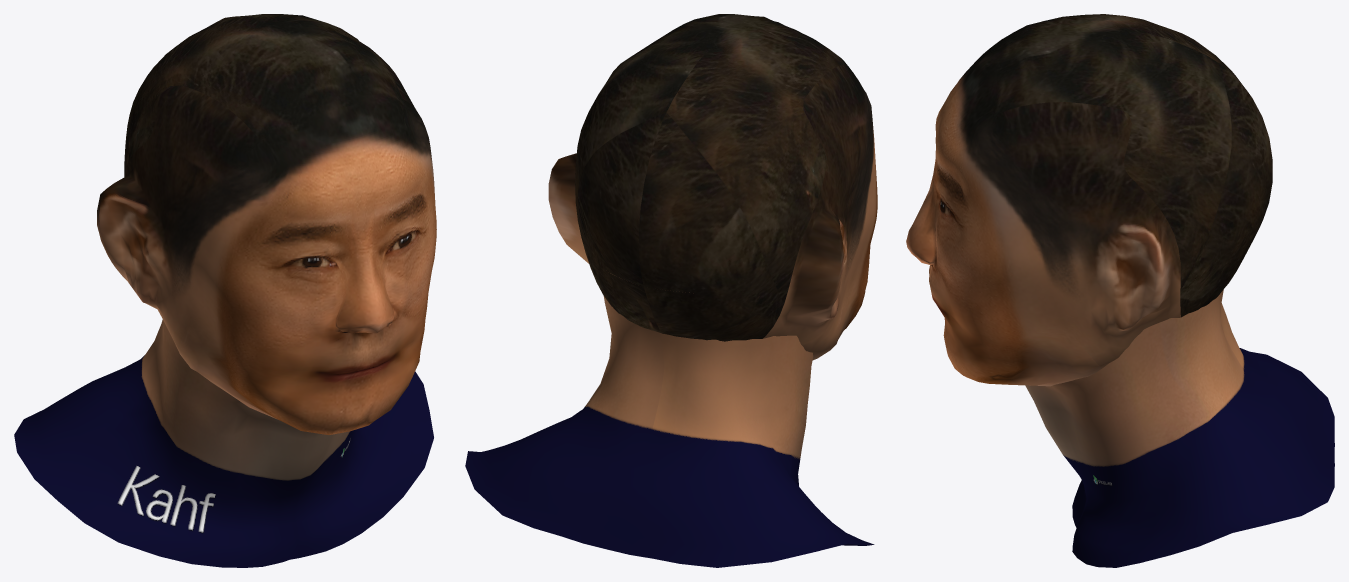
The model's file is 3D_KAHF_HeadNeck_Rectangle3.glb.
The picture shows the model from 3 angles, left to right: view 1: azimuth 30°, elevation 25°; view 2: azimuth 150°, elevation 25°; view 3: azimuth 270°, elevation 25°; orthographic projection. The views are drawn at different scales.
Parts seen in each view (by area): view 1: HEAD - SQUARE SHAPE.003, NECK - SQAURE SHAPE.005; view 2: HEAD - SQUARE SHAPE.003, NECK - SQAURE SHAPE.005; view 3: HEAD - SQUARE SHAPE.003, NECK - SQAURE SHAPE.005.
Boxes of the visible parts, <box> form: HEAD - SQUARE SHAPE.003: <box>97,14,436,434</box>; NECK - SQAURE SHAPE.005: <box>14,319,433,567</box>; HEAD - SQUARE SHAPE.003: <box>548,14,877,360</box>; NECK - SQAURE SHAPE.005: <box>465,273,874,567</box>; HEAD - SQUARE SHAPE.003: <box>906,14,1272,386</box>; NECK - SQAURE SHAPE.005: <box>1025,290,1334,567</box>.
Size of the model in its own units: 0.2726 by 0.3492 by 0.268.
Materials: 2 (2 with a texture image).
